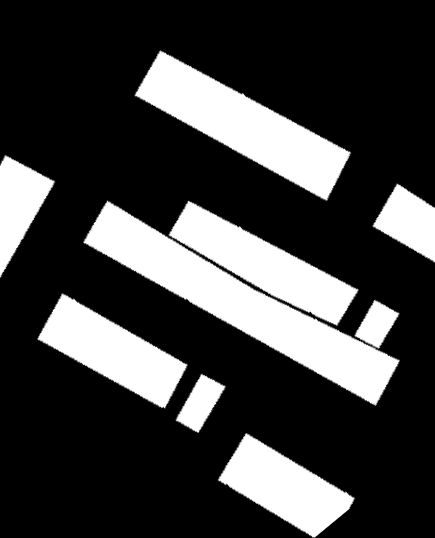parkingspot: (83, 201, 400, 406), (135, 51, 351, 201), (169, 201, 358, 326), (38, 294, 187, 408), (218, 433, 355, 538), (0, 156, 55, 277), (373, 184, 435, 262), (176, 374, 225, 433), (373, 346, 377, 349)
